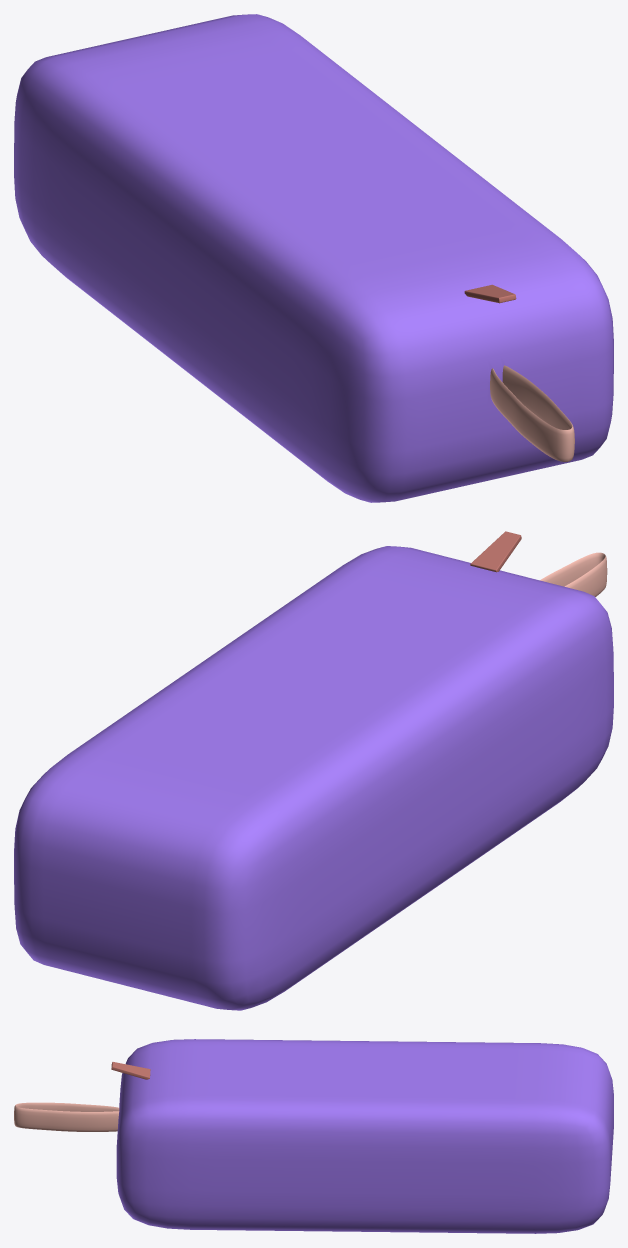
3 renders of one model, top to bottom at view 1: azimuth 30°, elevation 25°; view 2: azimuth 150°, elevation 25°; view 3: azimuth 270°, elevation 25°, orthographic. The views are drawn at different scales.
Parts seen in each view (by area): view 1: pCube1_lambert2_0, pCube3_lambert3_0; view 2: pCube1_lambert2_0, pCube3_lambert3_0, pCube2_lambert3_0; view 3: pCube1_lambert2_0, pCube3_lambert3_0, pCube2_lambert3_0.
Boxes of the visible parts, left/top/right/bottom form: pCube1_lambert2_0: left=14, top=14, right=613, bottom=502; pCube3_lambert3_0: left=490, top=365, right=574, bottom=461; pCube1_lambert2_0: left=14, top=546, right=613, bottom=1010; pCube3_lambert3_0: left=540, top=552, right=607, bottom=596; pCube2_lambert3_0: left=470, top=531, right=521, bottom=572; pCube1_lambert2_0: left=116, top=1039, right=613, bottom=1233; pCube3_lambert3_0: left=14, top=1102, right=119, bottom=1131; pCube2_lambert3_0: left=111, top=1062, right=150, bottom=1079.
Size of the model in its own units: 0.334 by 0.2467 by 1.
